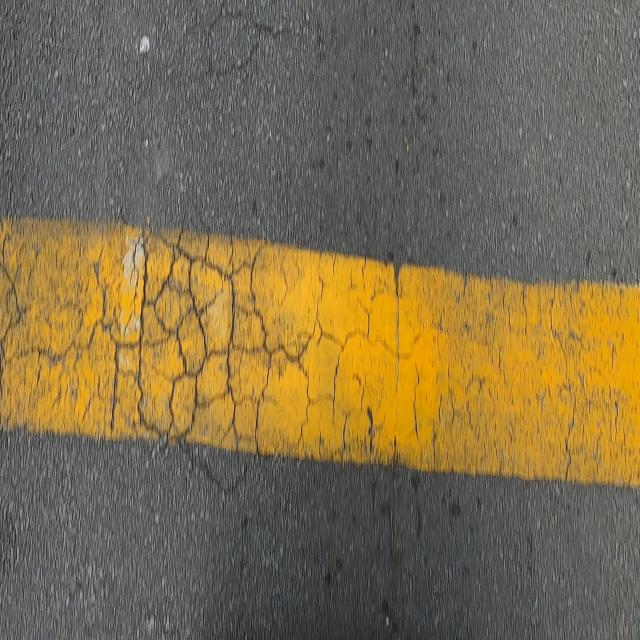Retak-Buaya: (89, 229, 371, 507)
